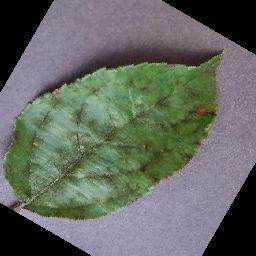apple healthy: (2, 48, 225, 220)
